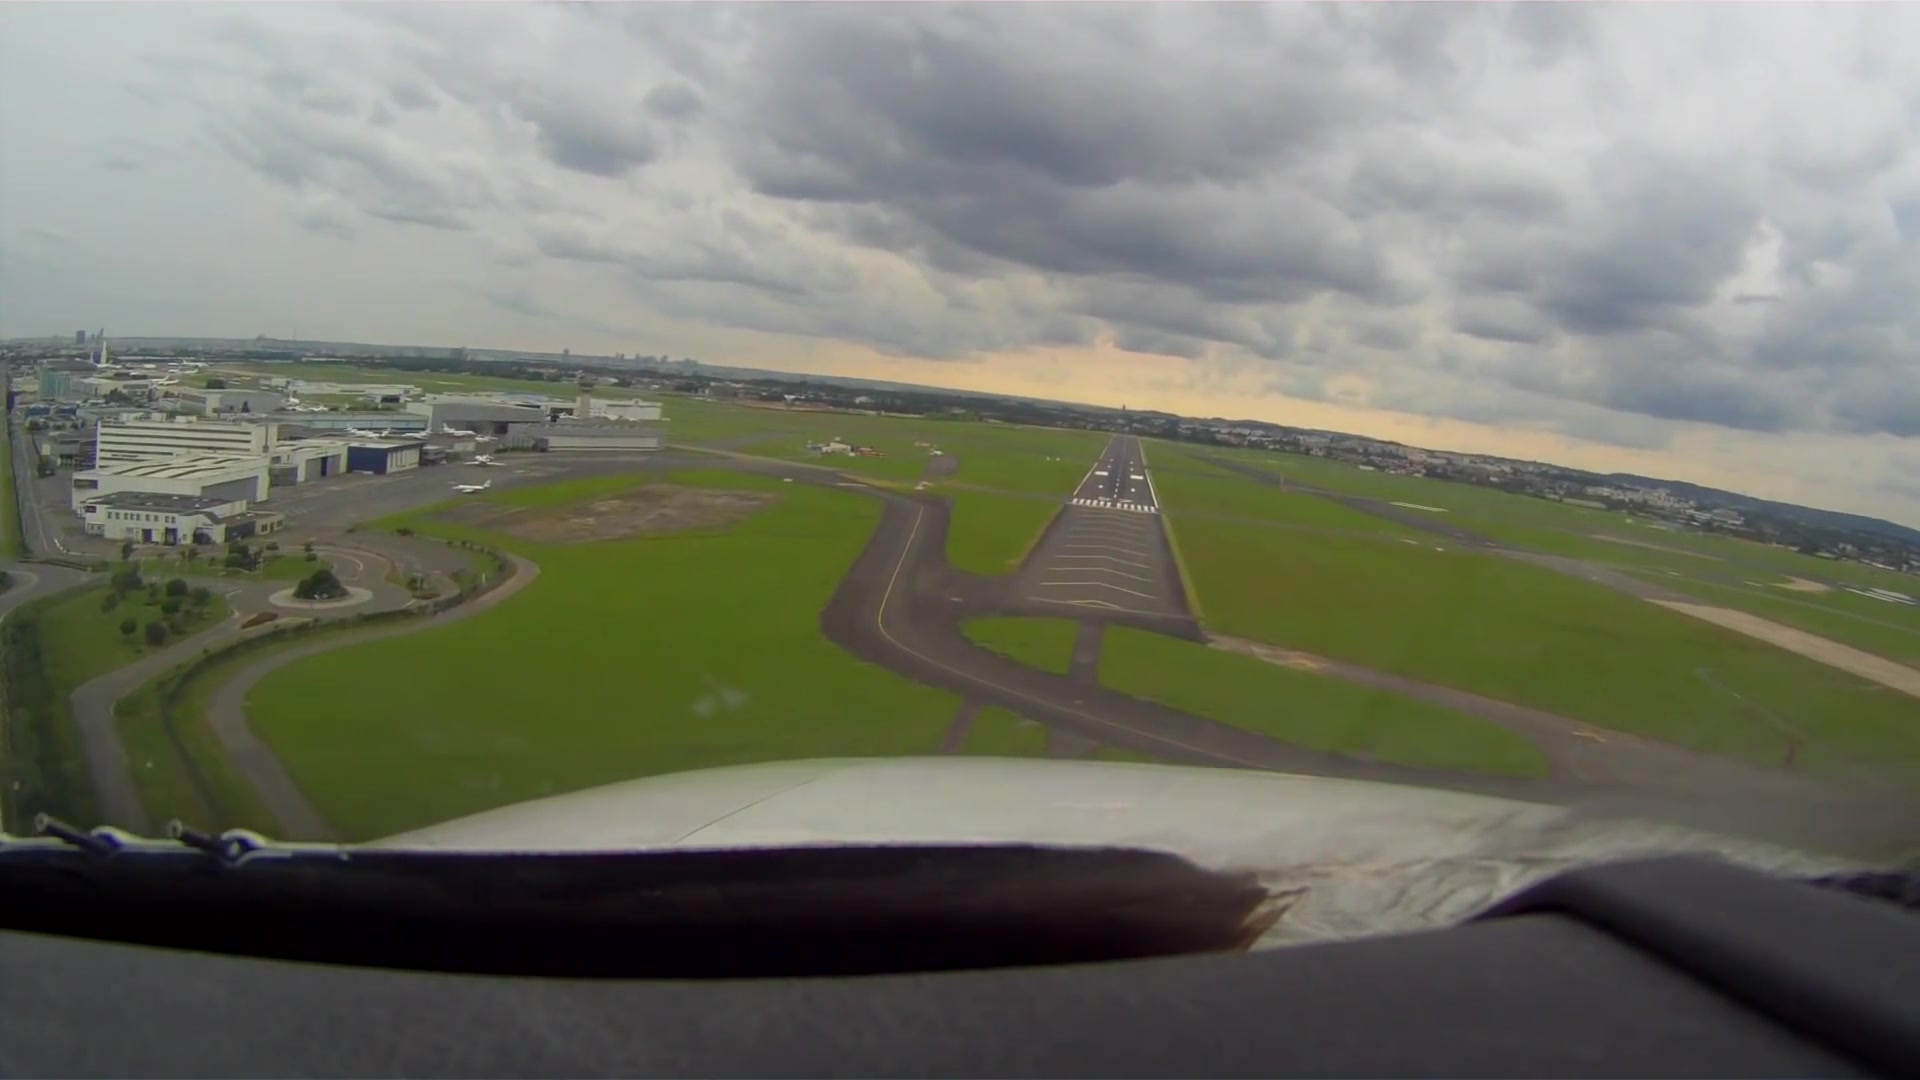entrance: (1071, 497, 1156, 512)
runway: (1067, 433, 1166, 518)
